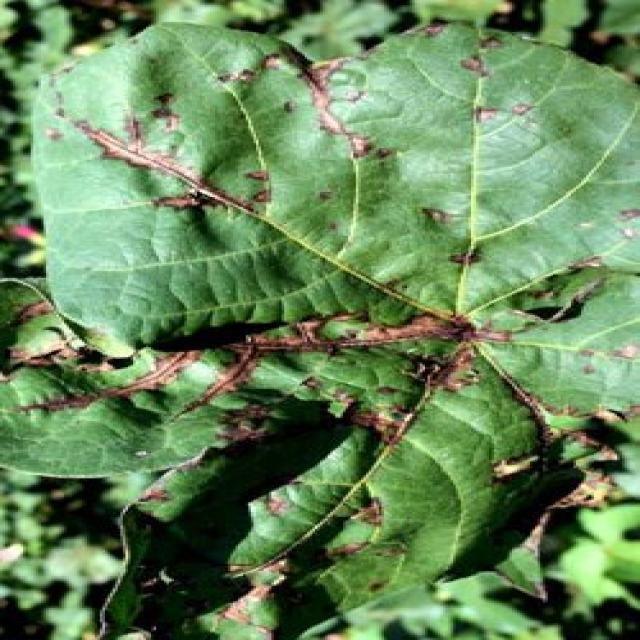Bacterial Blight: (99, 76, 517, 521)
